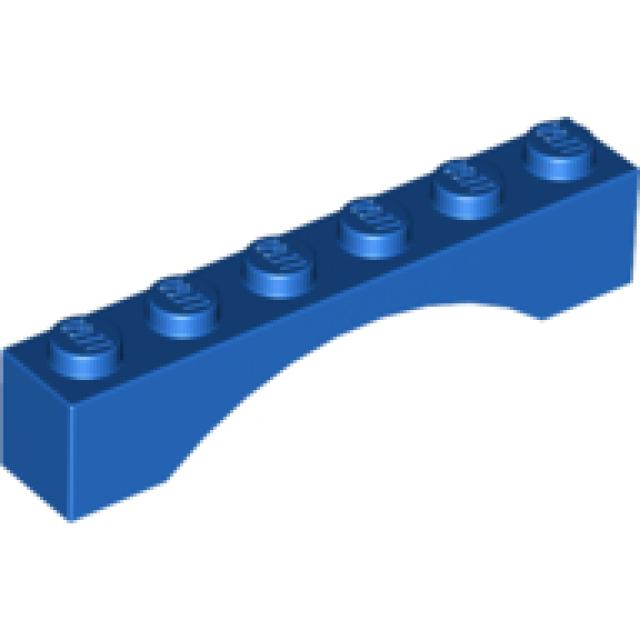Blue_Large: (0, 117, 640, 523)
